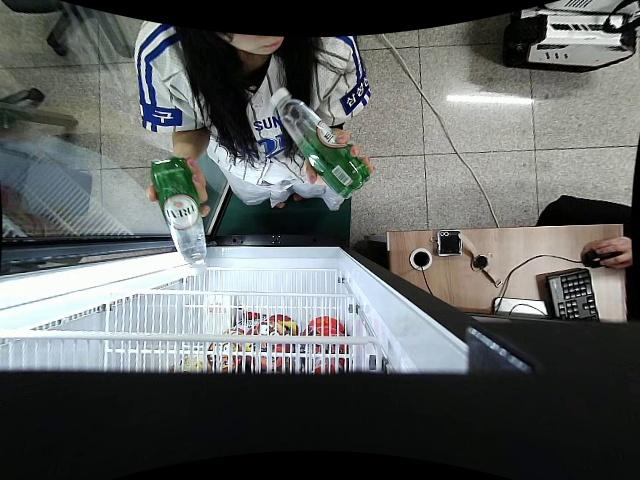00_hand: (304, 127, 376, 184), (146, 157, 211, 219)
18_trevi: (270, 87, 371, 198), (151, 158, 209, 275)
